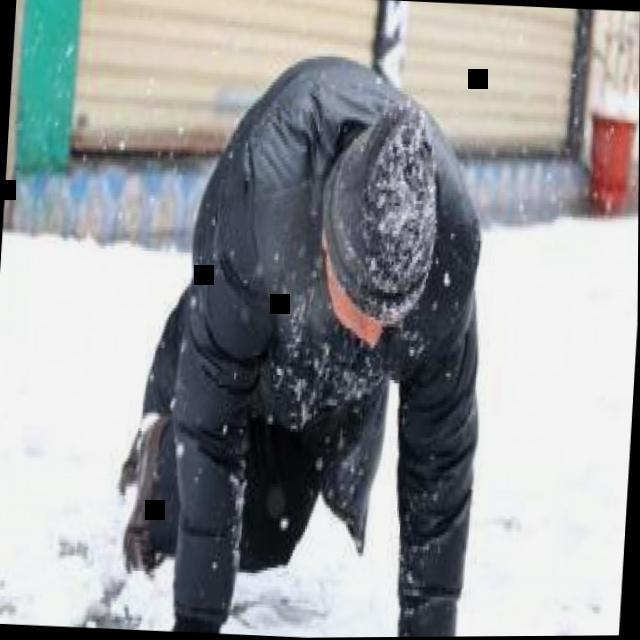Fall-Detected: (90, 23, 545, 639)
